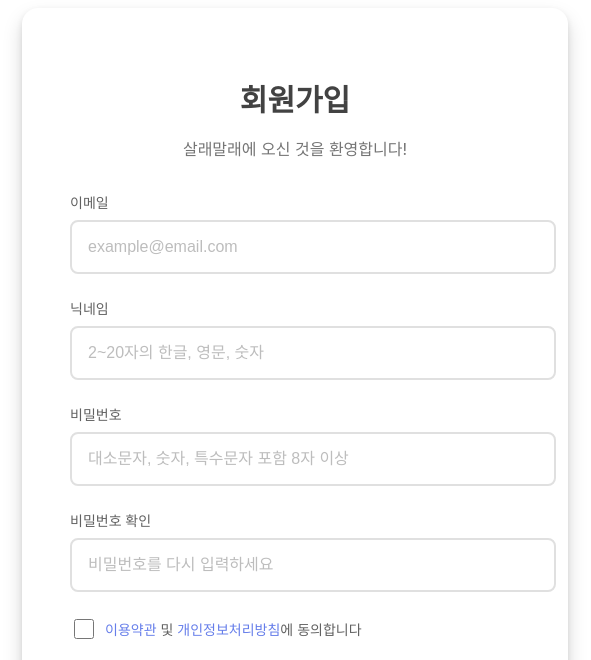
Scenario: Validation Message Display › RegisterForm › 비밀번호가 요구사항을 충족하지 못할 때 구체적인 에러를 표시해야 함
Note: Password without uppercase
Type "password123!" into the password field labelled "비밀번호".
click(313, 459); type("password123!")  # box [70,432,556,486]
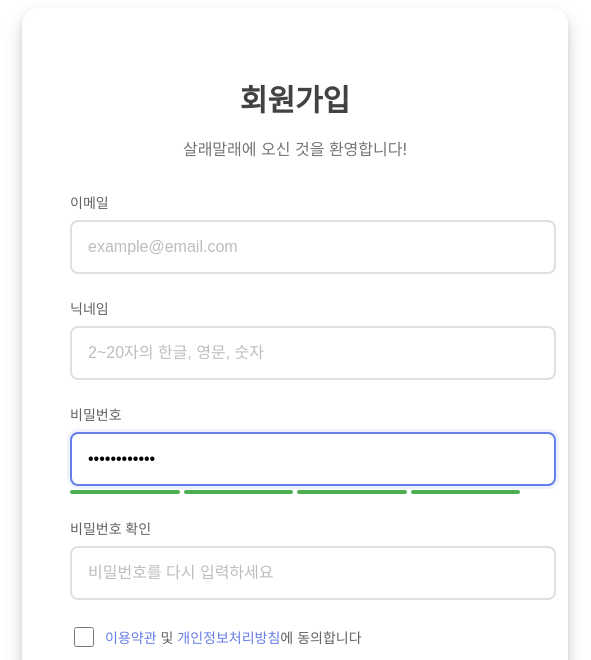
Leave the password field labelled "비밀번호", box [70,432,556,486]
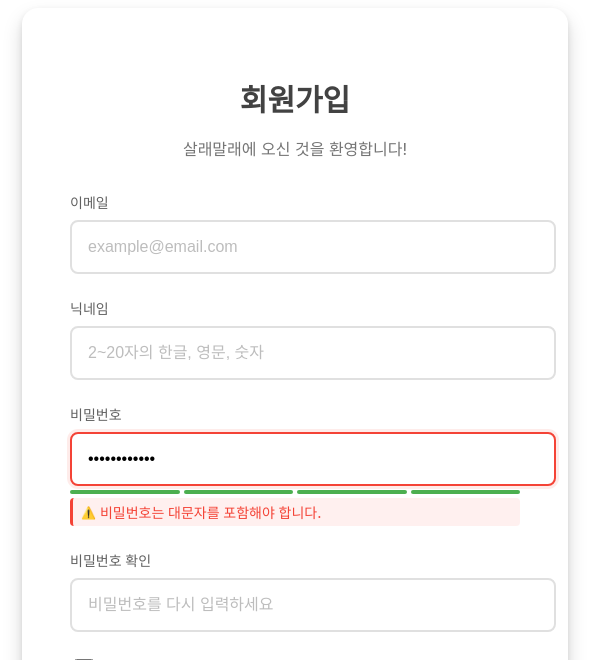
Result: the message reads "비밀번호는 대문자를 포함해야 합니다." at [100,504,322,521]
